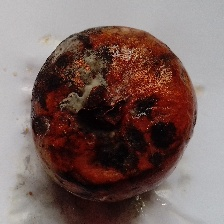guava: (41, 4, 222, 194)
